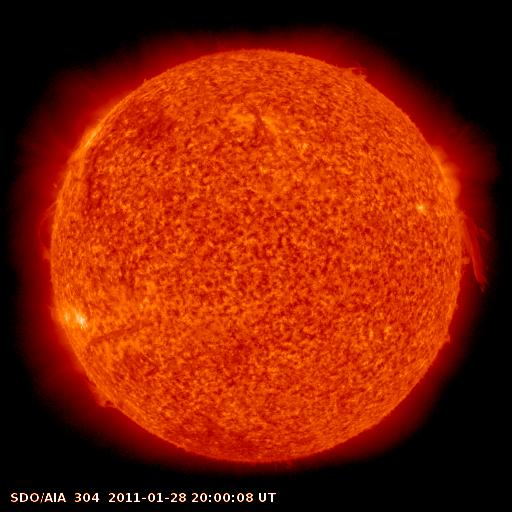prominence: (453, 207, 512, 303), (69, 367, 132, 421), (27, 194, 71, 263), (341, 49, 389, 100)
